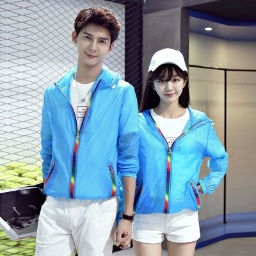face: (71, 7, 121, 66), (142, 64, 191, 111)
